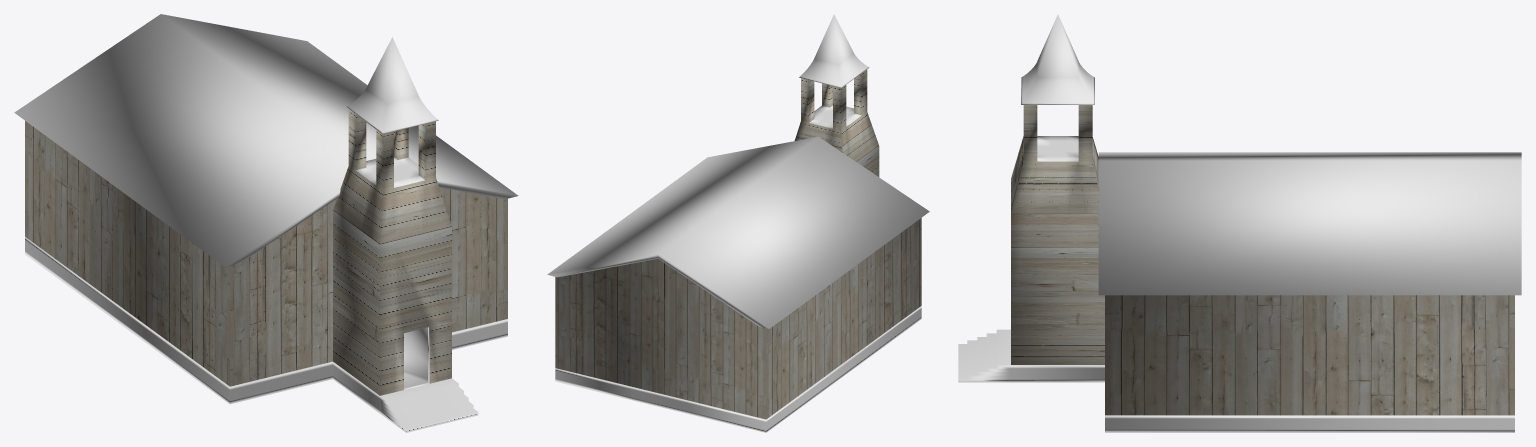
The model's file is Church.fbx.
3 renders of one model, left to right at view 1: azimuth 30°, elevation 25°; view 2: azimuth 150°, elevation 25°; view 3: azimuth 270°, elevation 25°, orthographic. The views are drawn at different scales.
Parts seen in each view (by area): view 1: Cube, Cube.001, Cube.004; view 2: Cube, Cube.001, Cube.004; view 3: Cube, Cube.001, Cube.004.
Boxes of the visible parts, x1=… form: Cube: x1=25, y1=37, x2=507, y2=395; Cube.001: x1=14, y1=14, x2=518, y2=267; Cube.004: x1=25, y1=237, x2=507, y2=432; Cube: x1=555, y1=14, x2=921, y2=419; Cube.001: x1=547, y1=136, x2=929, y2=328; Cube.004: x1=555, y1=306, x2=921, y2=432; Cube: x1=1011, y1=14, x2=1514, y2=415; Cube.001: x1=1098, y1=152, x2=1521, y2=295; Cube.004: x1=958, y1=329, x2=1514, y2=432.
Size of the model in its own units: 3455 by 3954 by 5747.
